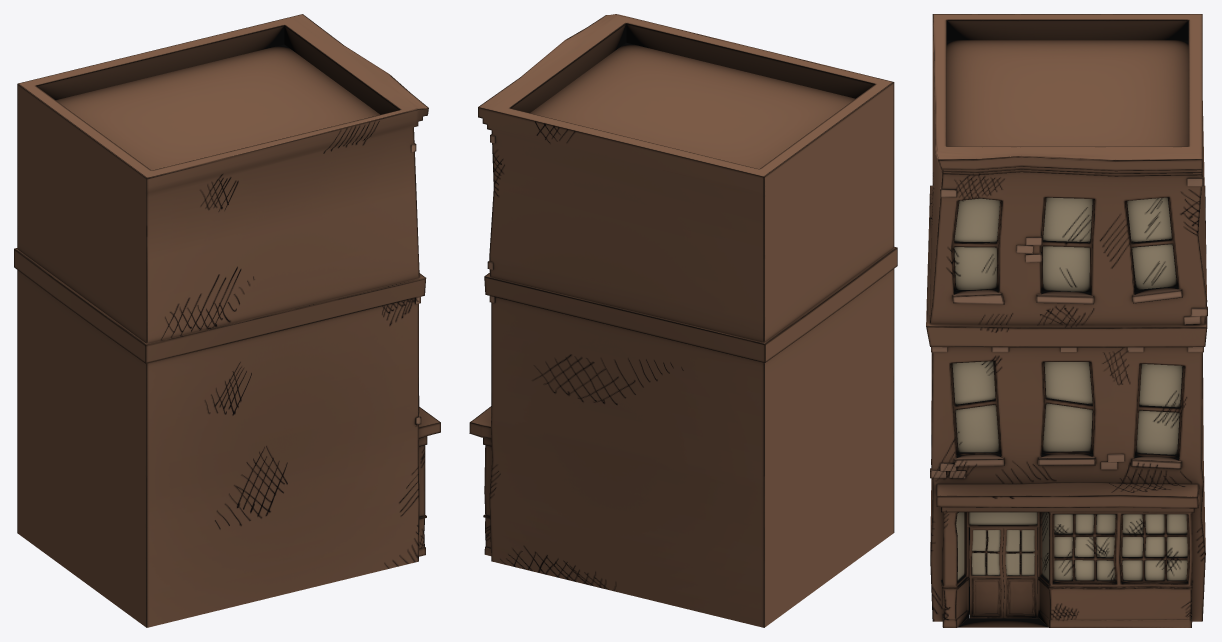
The model's file is BuildingSingle_03.fbx.
3 renders of one model, left to right at view 1: azimuth 30°, elevation 25°; view 2: azimuth 150°, elevation 25°; view 3: azimuth 270°, elevation 25°, orthographic. The views are drawn at different scales.
Visible parts, largest first — view 1: Building_03; view 2: Building_03; view 3: Building_03.
Part boxes in pixels (left/top/right/bottom): Building_03: left=14, top=14, right=440, bottom=627; Building_03: left=469, top=14, right=897, bottom=627; Building_03: left=926, top=14, right=1207, bottom=627.
Bounding box in the file's own units: 659 × 954 × 516.
